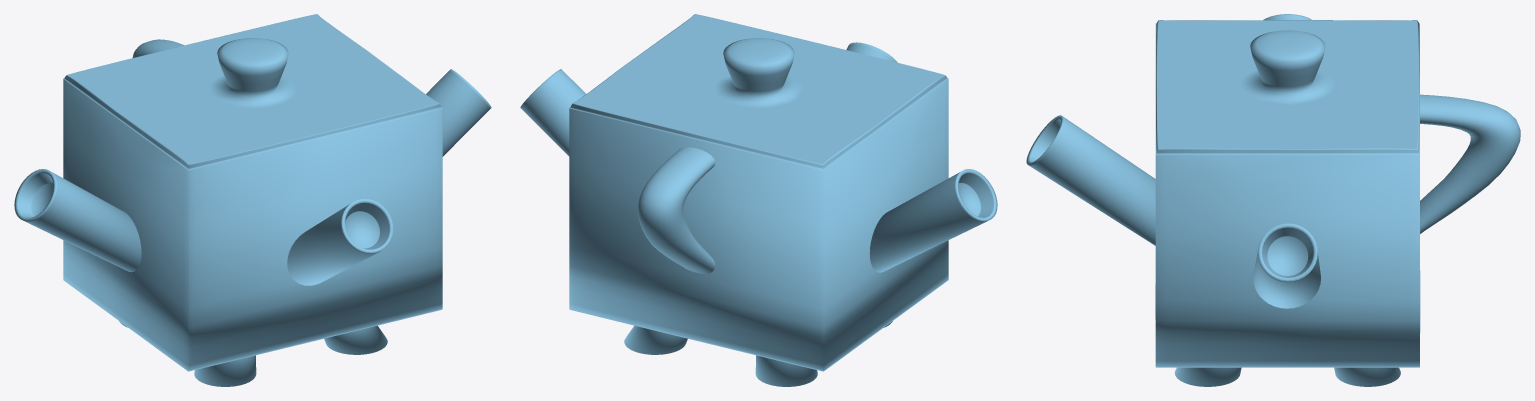
3 views of the same model, side by side, from view 1: azimuth 30°, elevation 25°; view 2: azimuth 150°, elevation 25°; view 3: azimuth 270°, elevation 25° (orthographic). The views are drawn at different scales.
Visible parts, largest first — view 1: Object_2; view 2: Object_2; view 3: Object_2.
Boxes of the visible parts, left/top/right/bottom form: Object_2: left=14, top=14, right=491, bottom=386; Object_2: left=520, top=14, right=997, bottom=386; Object_2: left=1026, top=14, right=1520, bottom=386.
Size of the model in its own units: 2.6 by 1.5 by 2.26.
